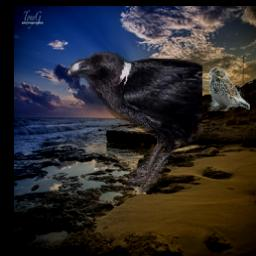Crow: (67, 51, 203, 193)
Sparrow: (208, 66, 251, 111)
